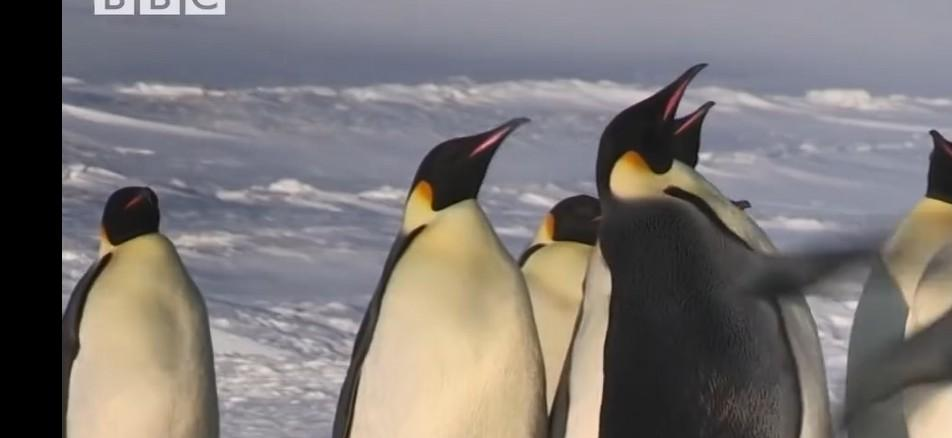Emperor Penguin: (584, 15, 843, 438), (326, 105, 553, 438), (20, 172, 238, 438), (852, 30, 952, 438)
